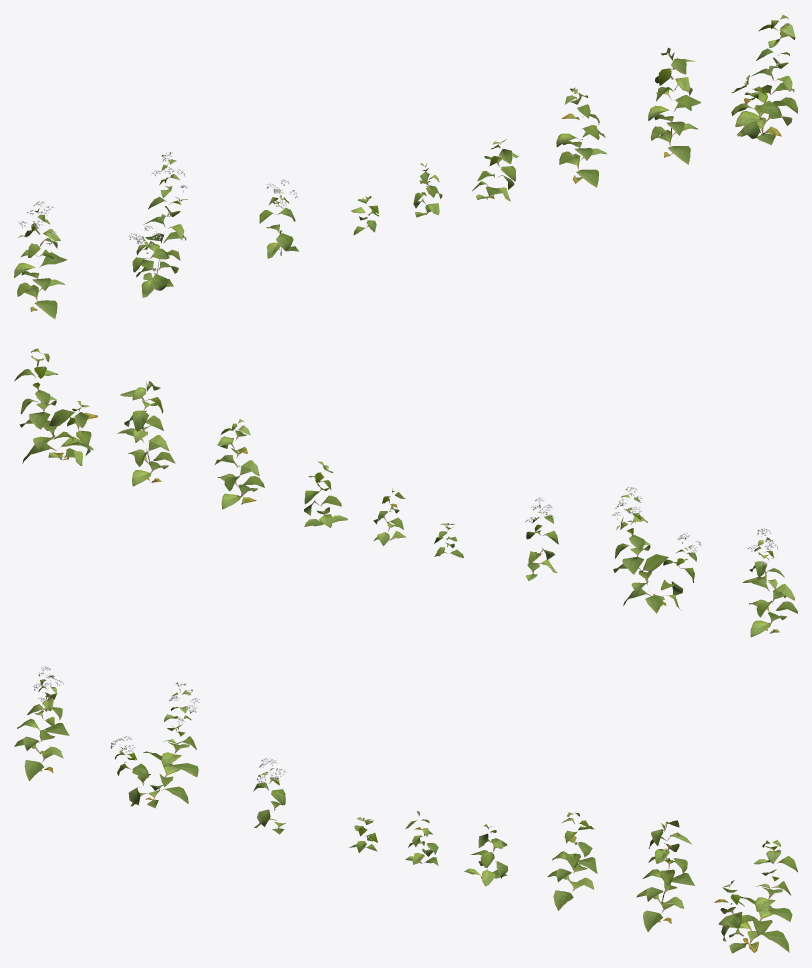
Rendered from shrub_01.glb.
3 views of the same model, one above another, from view 1: azimuth 30°, elevation 25°; view 2: azimuth 150°, elevation 25°; view 3: azimuth 330°, elevation 25° (orthographic). The views are drawn at different scales.
Parts seen in each view (by area): view 1: shrub_01_a; view 2: shrub_01_a; view 3: shrub_01_a.
Boxes of the visible parts, x1,y1,x2,y2 form: shrub_01_a: (14,14,797,319); shrub_01_a: (14,348,797,637); shrub_01_a: (14,666,797,953).
Size of the model in its own units: 2.59 by 0.3954 by 0.2174.
1 material, 1 textured.
